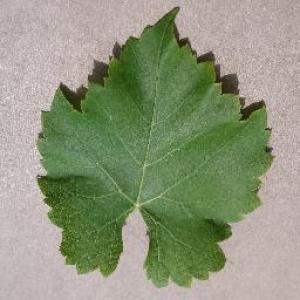Folha: (35, 5, 276, 288)
